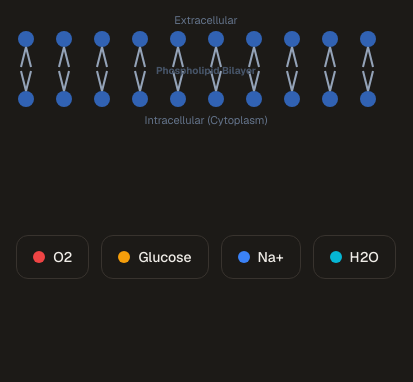
it: CellMembrane › shows correct result for glucose (facilitated diffusion)
Click the button "Glucose" at (155,257), box [101,235,209,279]
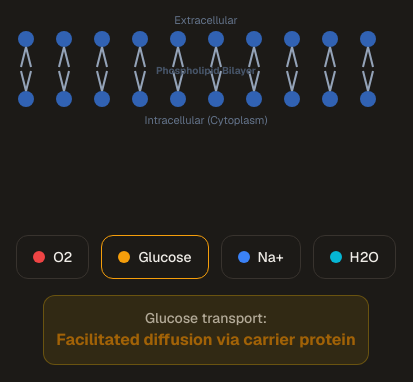
Check: the text "Facilitated diffusion via carrier protein" is shown, box [56,328,356,352]
